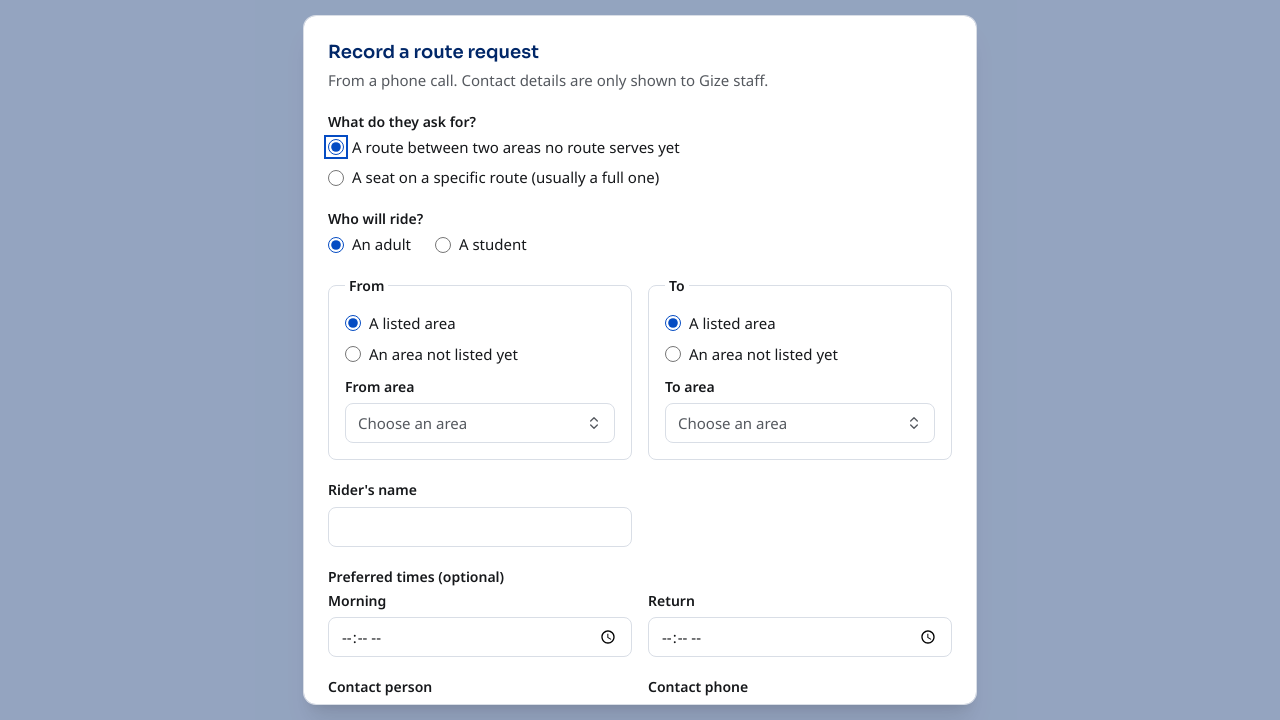
Test case: RouteRequestFormDialog: recording › clears the route when the rider type changes
This screenshot has width=1280, height=720.
Click the radio button labelled "A seat on a specific route (usually a full one)" at (336, 178), box left=328, top=170, right=344, bottom=186
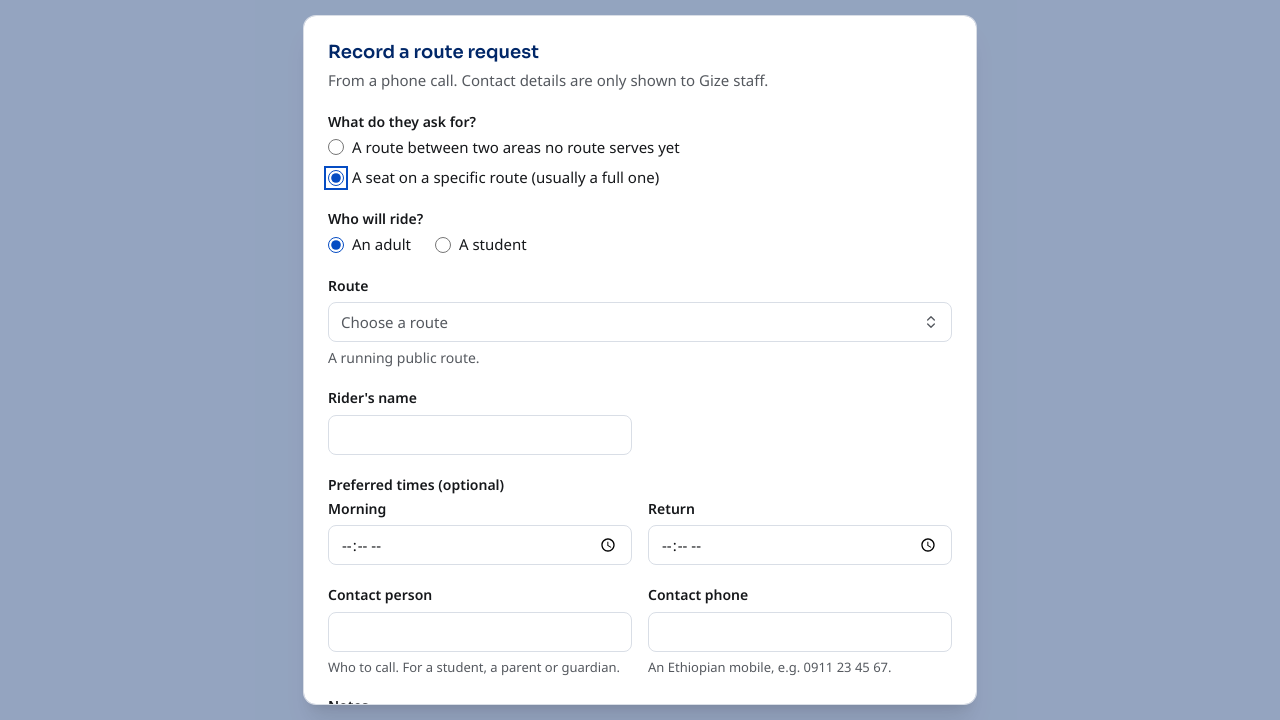
Click the dropdown labelled "route" at (394, 322), box left=328, top=302, right=952, bottom=342
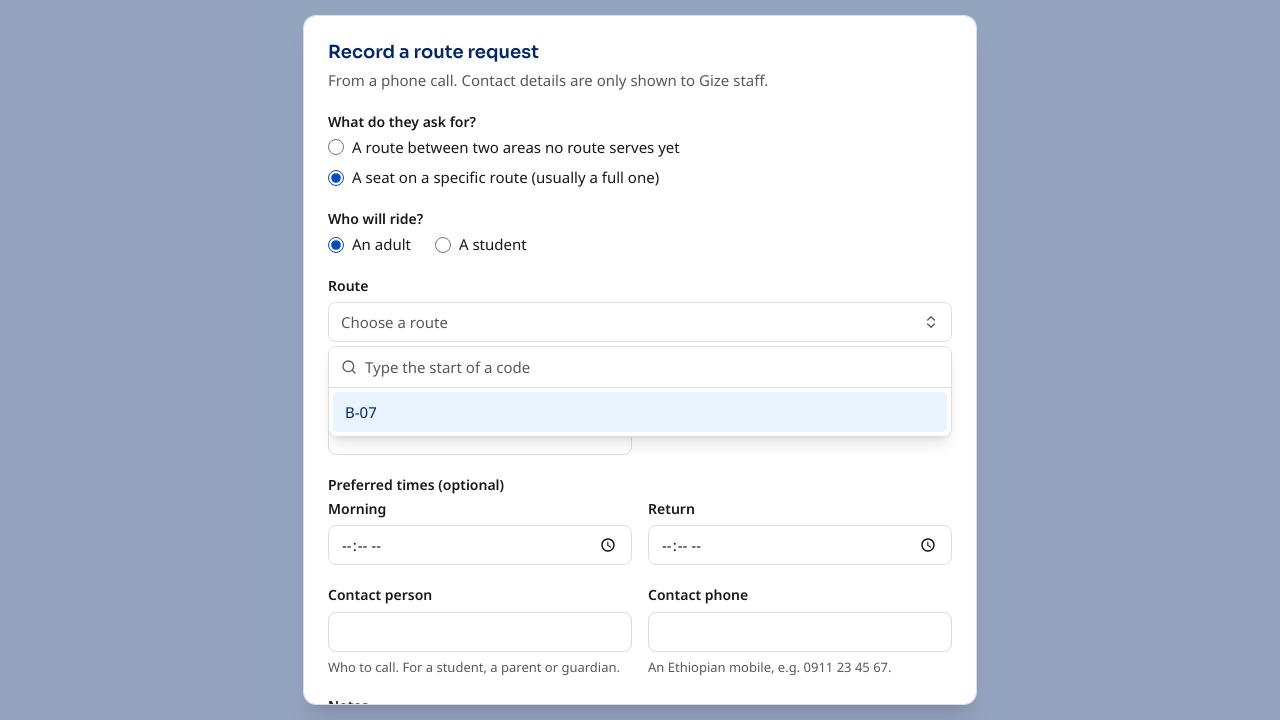
Type "B-" into the dropdown named "Search routes" at (652, 367), box left=365, top=347, right=939, bottom=387
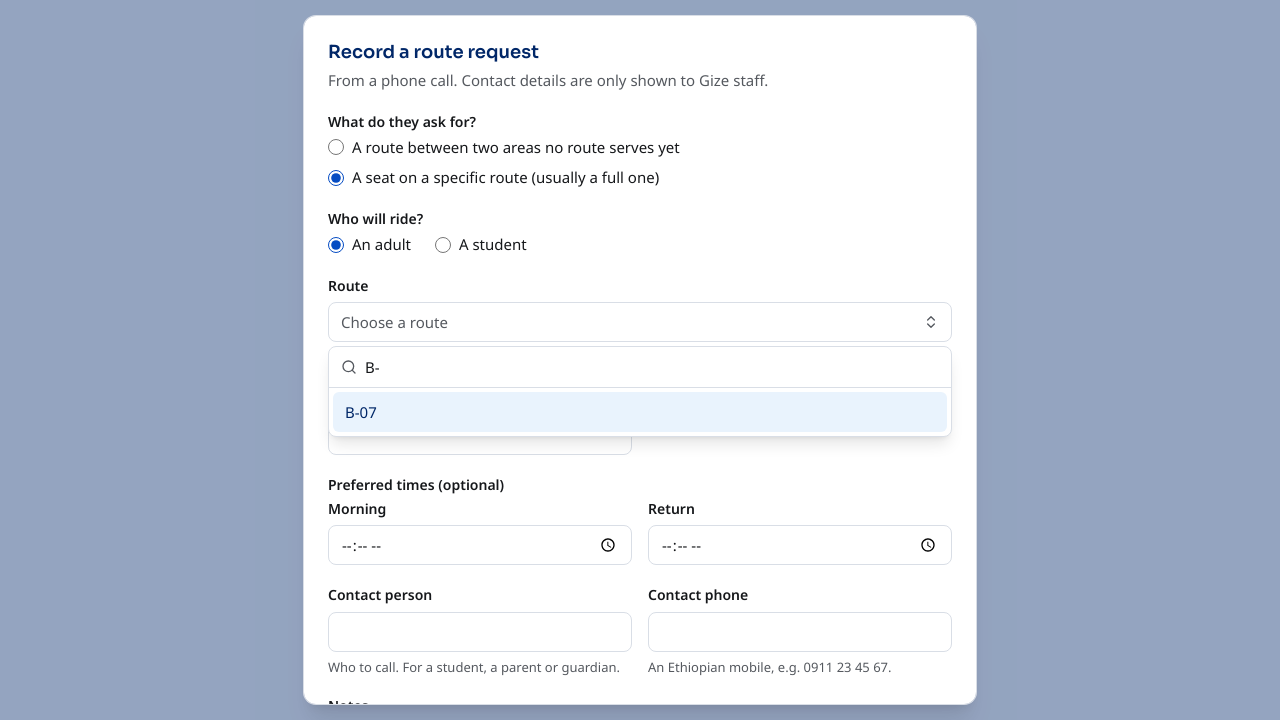
Click the option "B-07" at (361, 412), box left=333, top=392, right=947, bottom=432
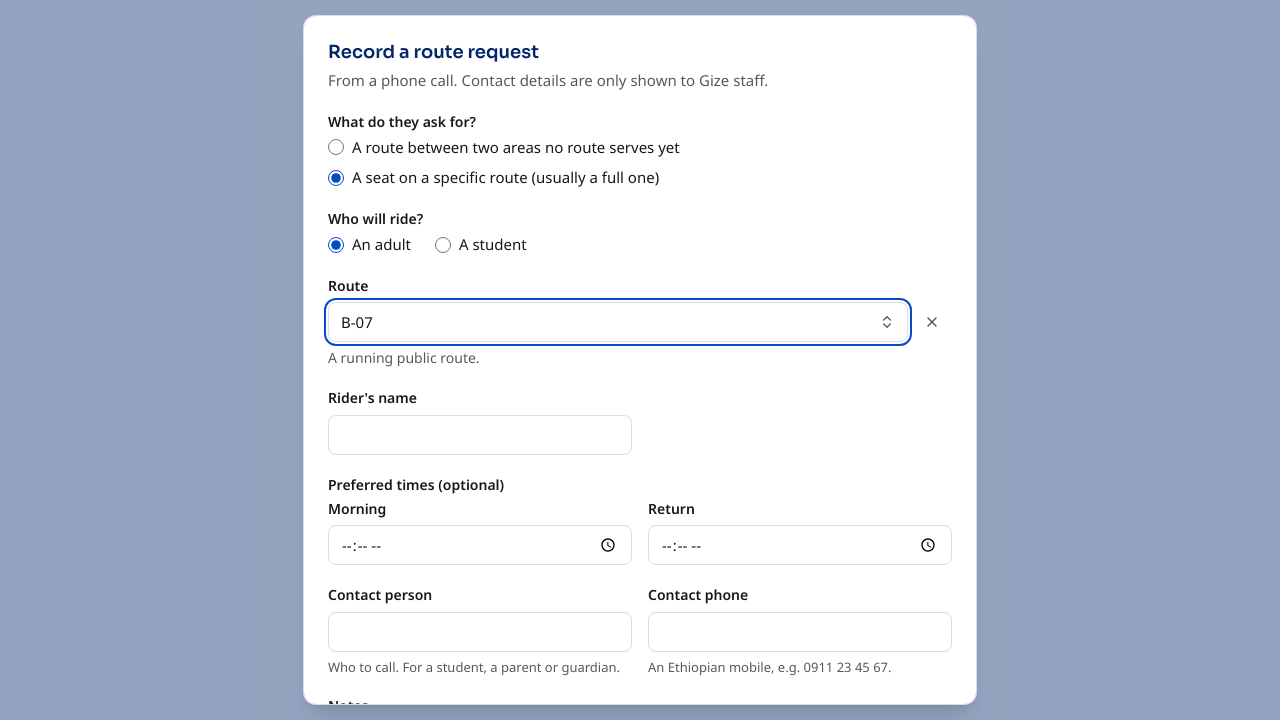
Click the radio button labelled "A student" at (443, 244), box left=435, top=236, right=451, bottom=252
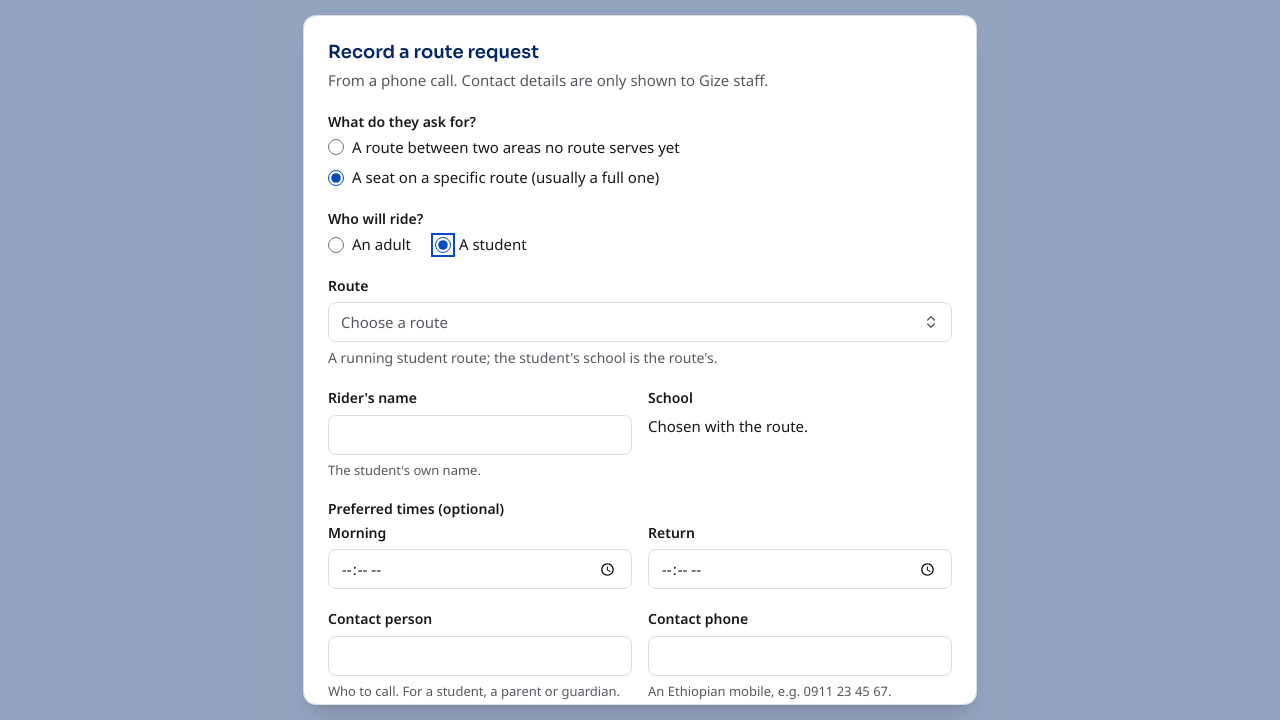
Now the dropdown labelled "route" no longer shows "B-07", box left=328, top=302, right=952, bottom=342
